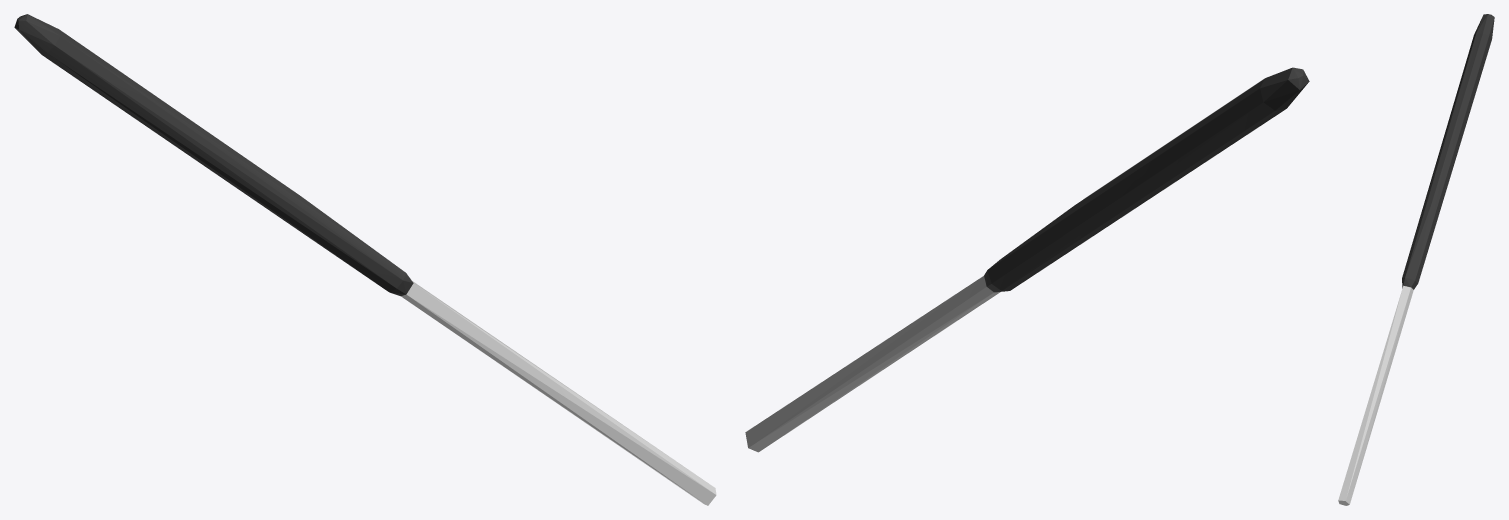
The model's file is SPARKLER.fbx.
The picture shows the model from 3 angles, left to right: view 1: azimuth 30°, elevation 25°; view 2: azimuth 150°, elevation 25°; view 3: azimuth 270°, elevation 25°; orthographic projection. The views are drawn at different scales.
Parts seen in each view (by area): view 1: SPARKLER; view 2: SPARKLER; view 3: SPARKLER.
Boxes of the visible parts, bbox=[...] form: SPARKLER: bbox=[14, 14, 716, 505]; SPARKLER: bbox=[745, 67, 1309, 452]; SPARKLER: bbox=[1338, 14, 1494, 505].
Bounding box in the file's own units: 17.64 × 15.67 × 6.8.
